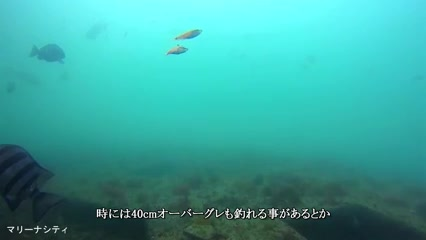smallfish: (27, 41, 69, 65), (166, 25, 205, 44)
